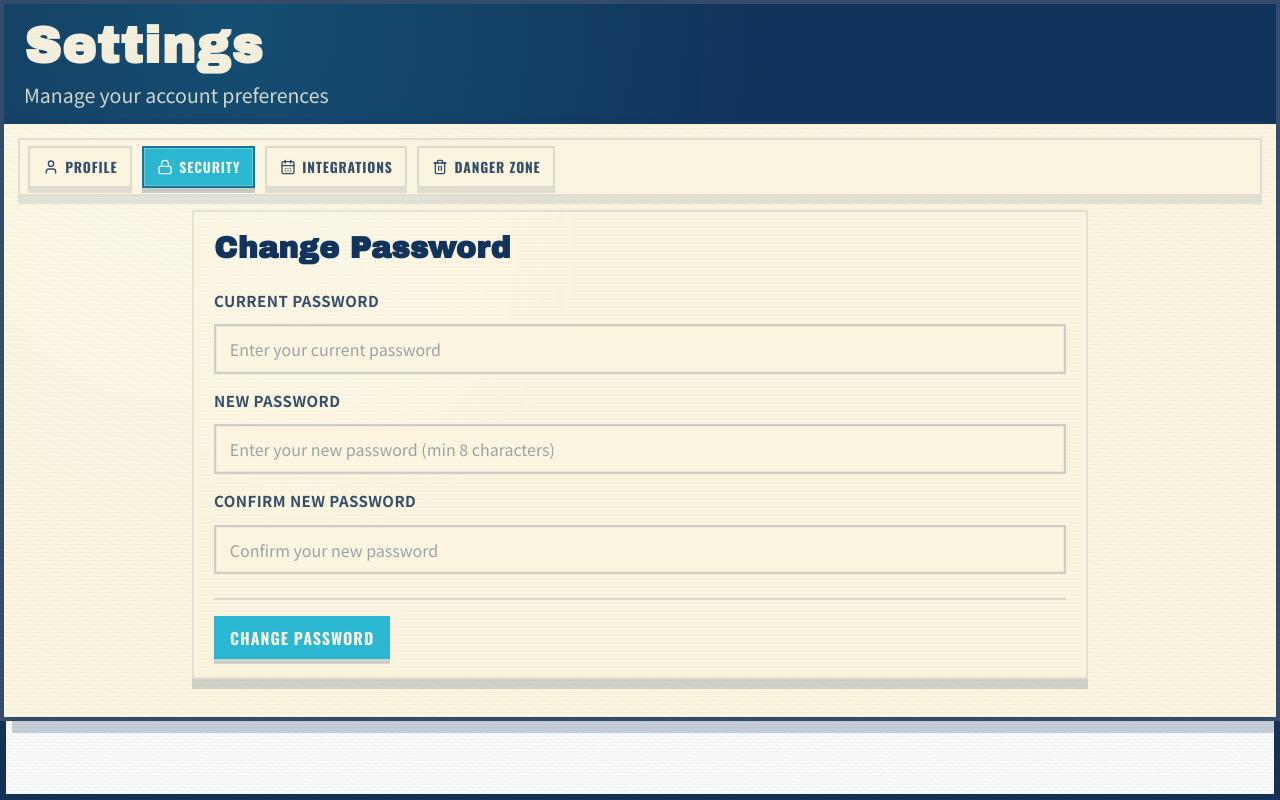
Test case: SettingsPage › Security Tab › should validate passwords match
Type "currentpass" into the password field with test id "settings-input-current-password". click: (640, 349)
box: [214, 324, 1066, 374]
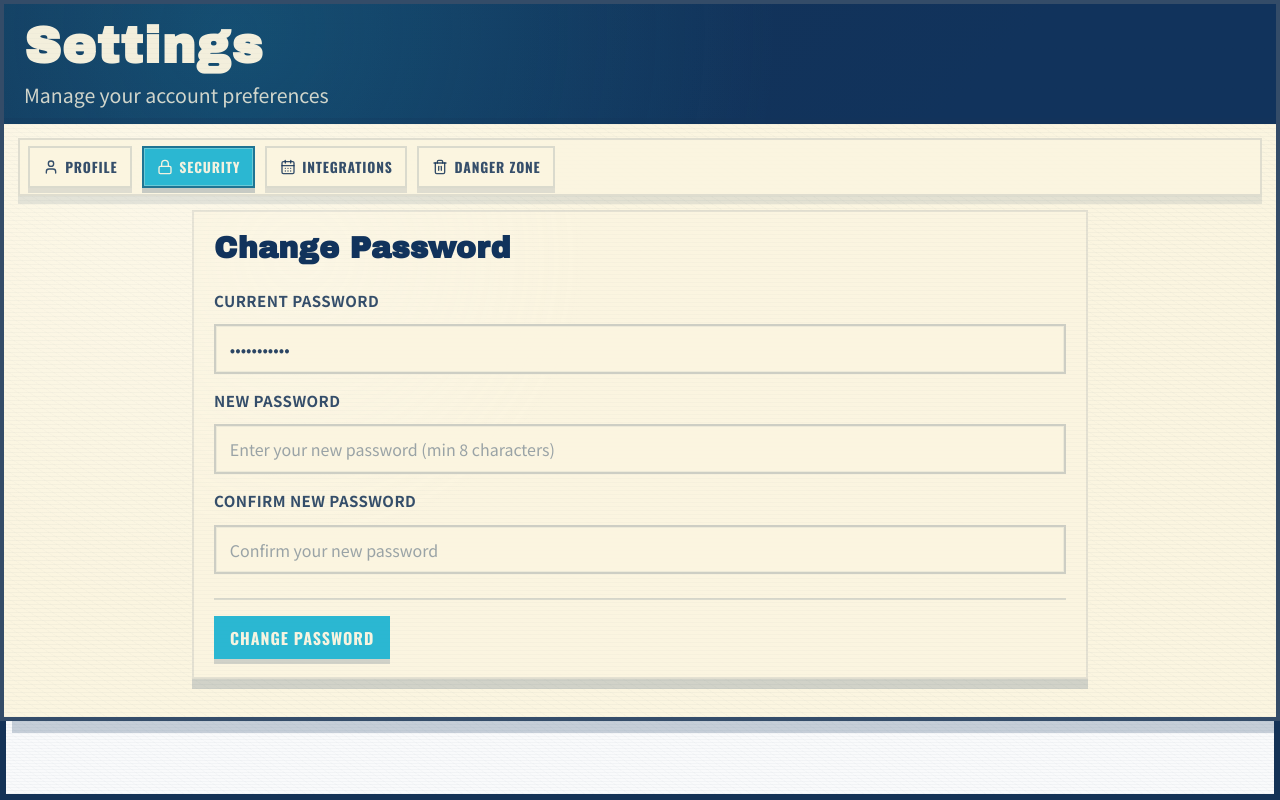
Type "newpassword1" into the password field with test id "settings-input-new-password". click: (640, 449)
box: [214, 424, 1066, 474]
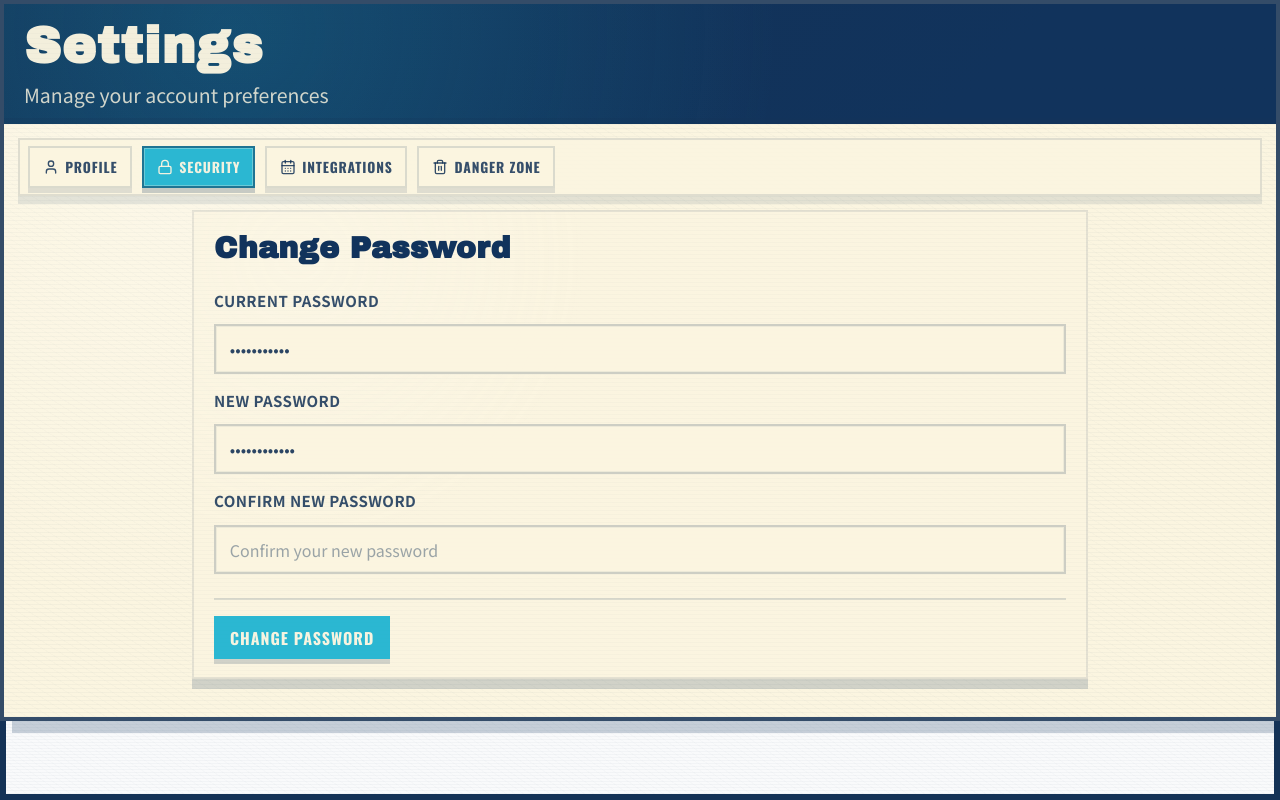
Type "newpassword2" into the password field with test id "settings-input-confirm-password". click: (640, 550)
box: [214, 525, 1066, 574]
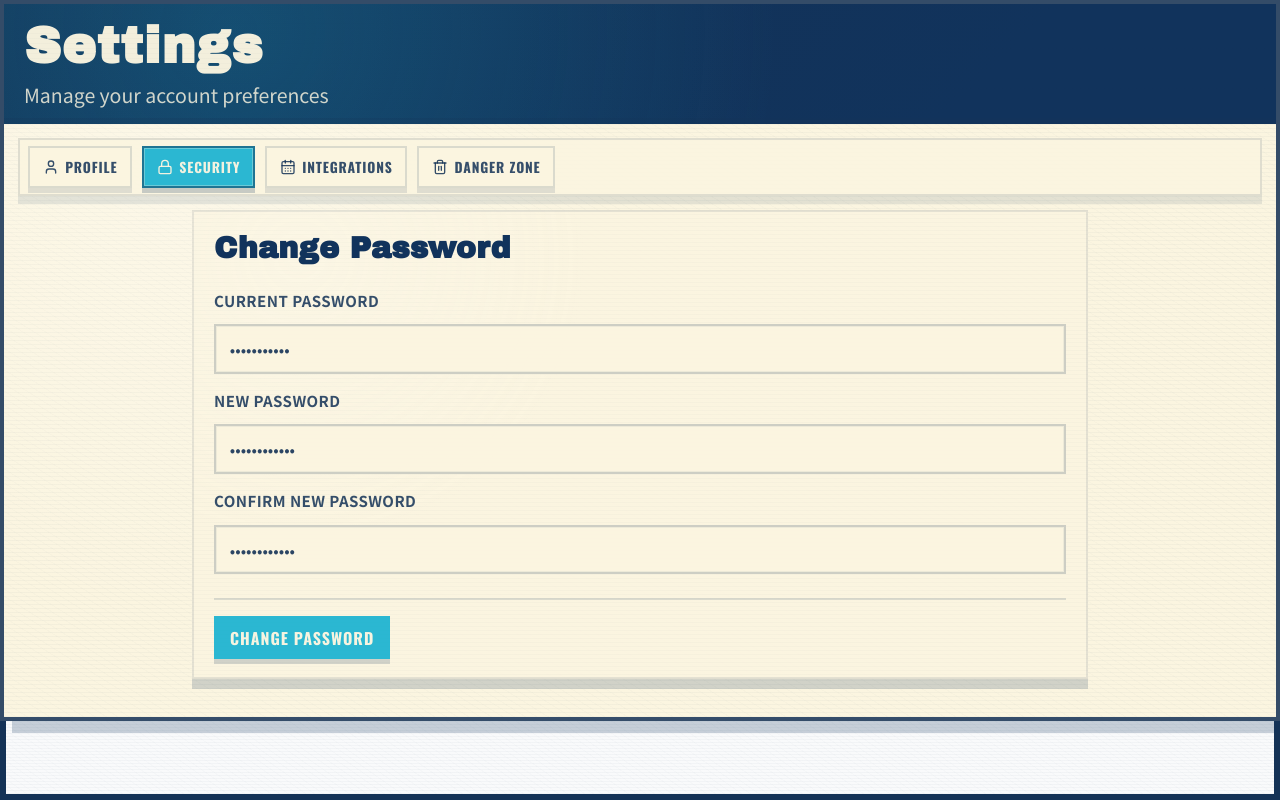
Click the button with test id "settings-button-change-password". click: (302, 638)
box: [214, 616, 390, 659]
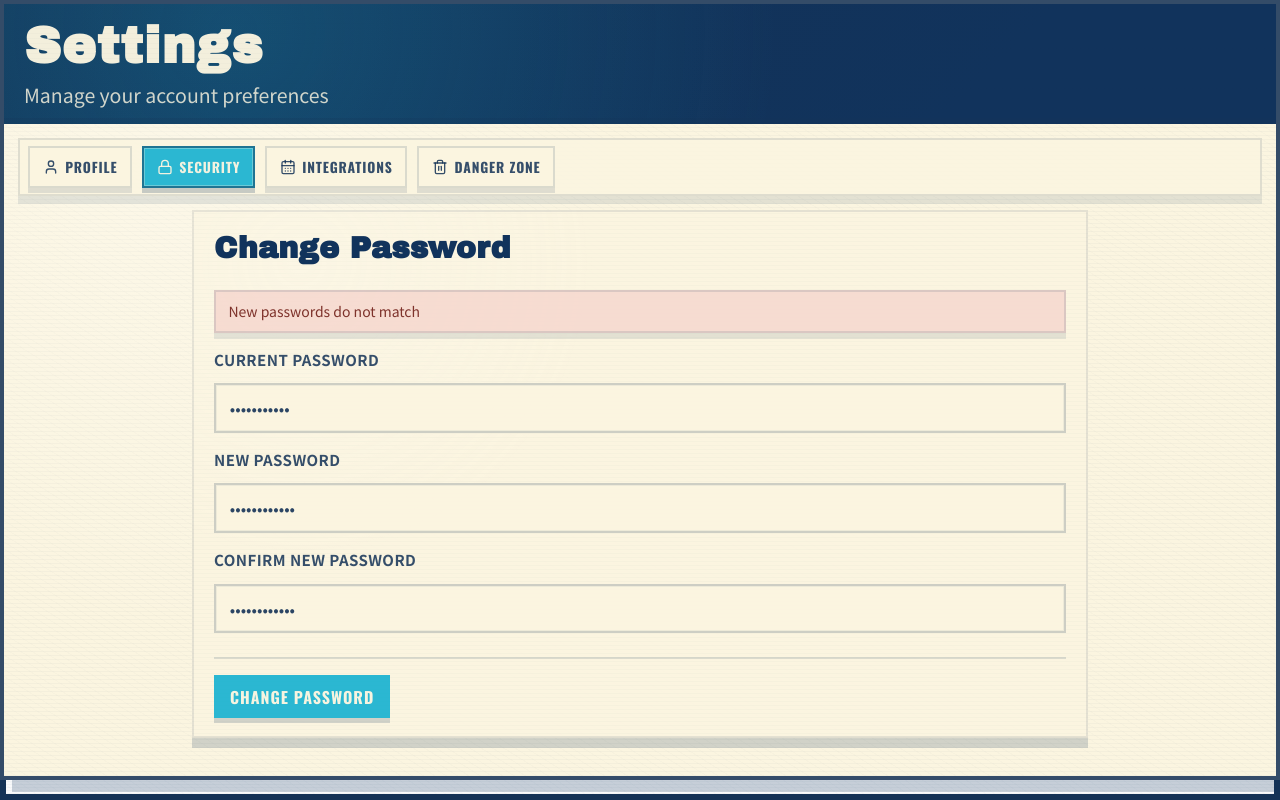
expect the text "New passwords do not match" is shown: met, box [228, 301, 420, 321]
